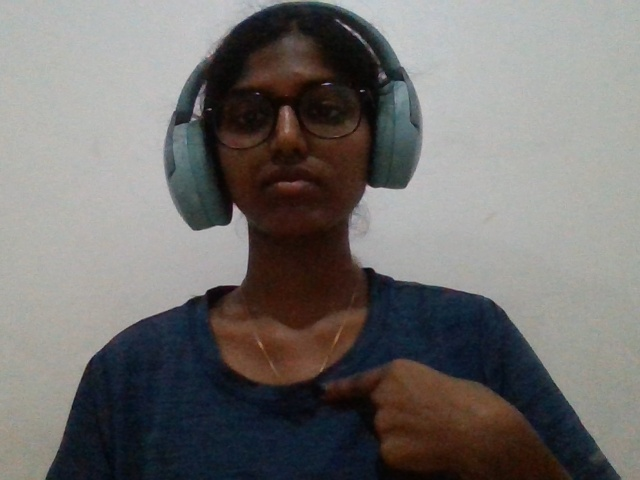Me: (294, 338, 613, 480)
